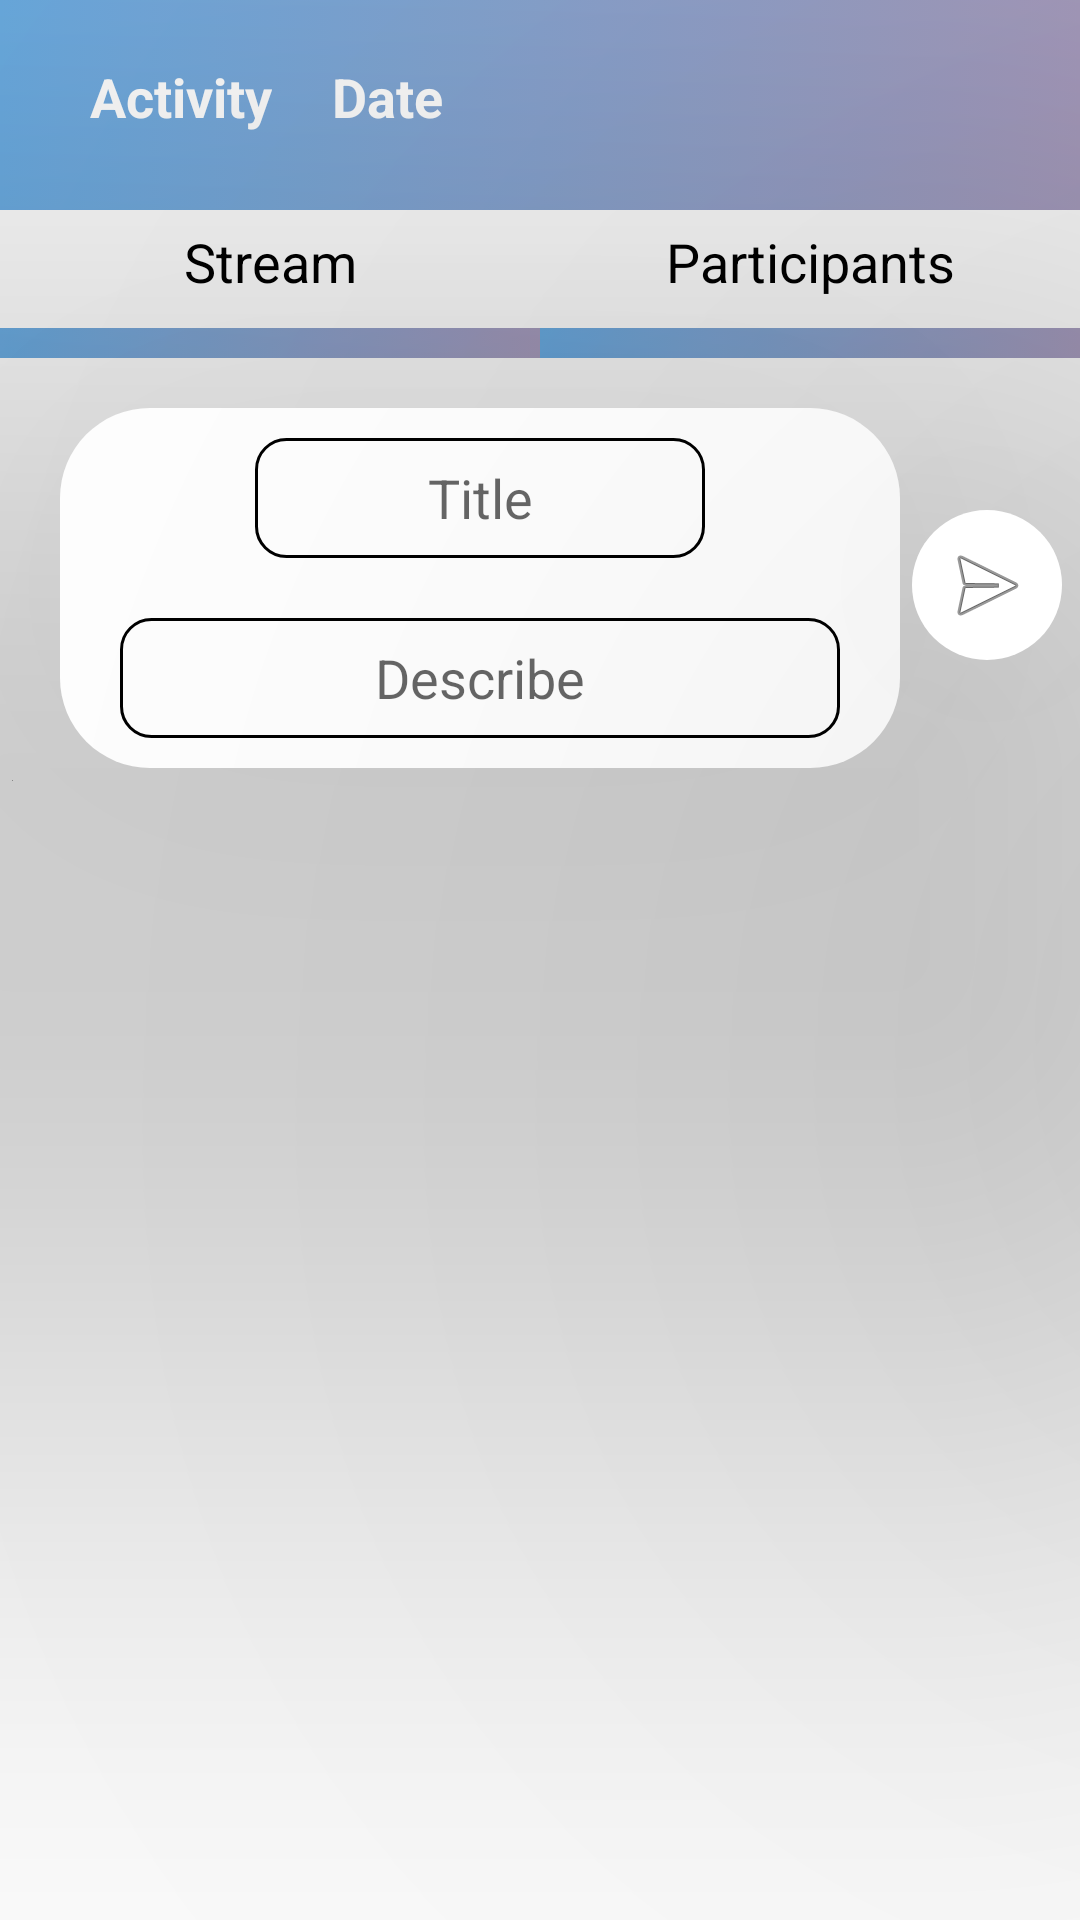

Icon click points for this 1080w x 1920h phone screenshot, format [x,y]:
send: [988,585]
